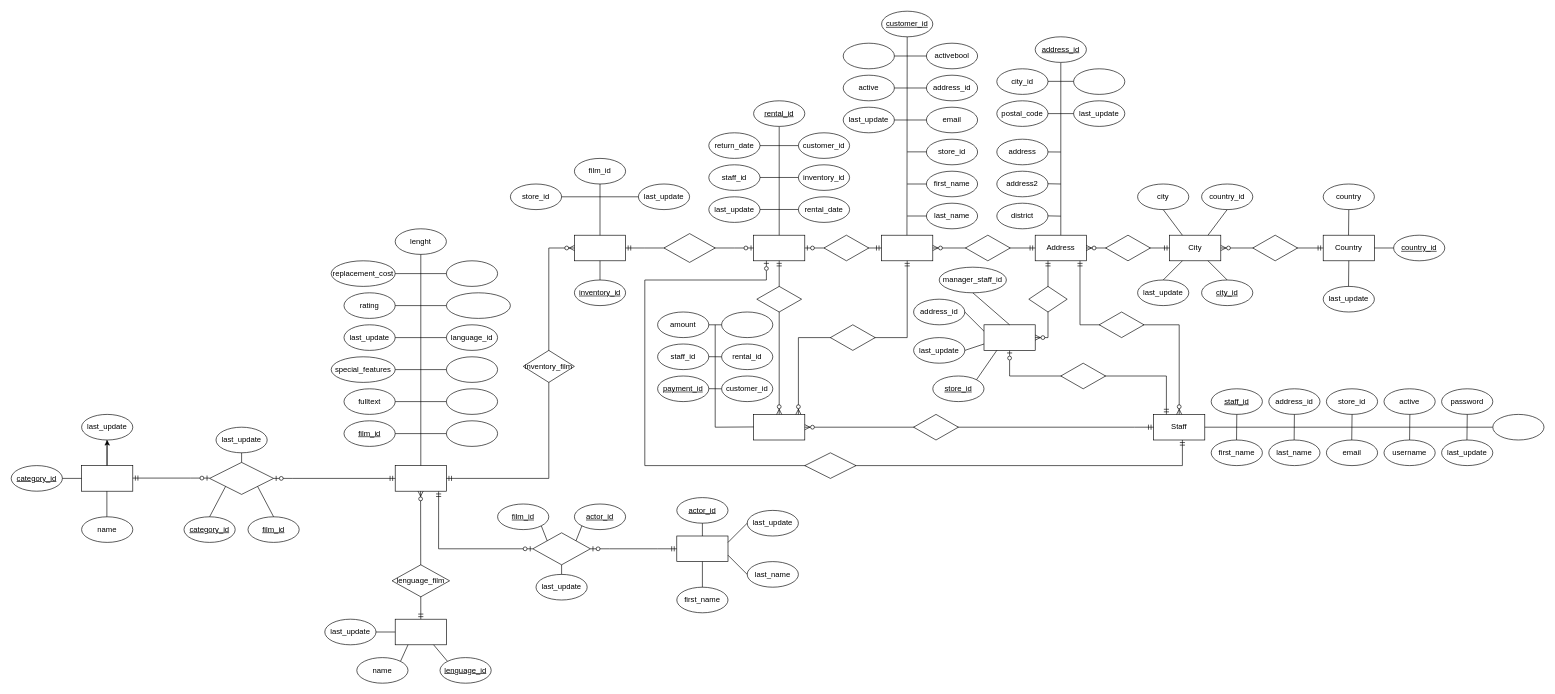
Some shapes in this 1555 by 694 pixel diagram are drawn without their labels. Each missing label, with the centre of its shape:
"Actor" goes at (702,548).
"Category" goes at (107,478).
"create_date" goes at (868,56).
"Customer" goes at (907,248).
"description" goes at (472,401).
"Film" goes at (420,478).
"Film_actor" goes at (561,548).
"Film_category" goes at (241,478).
"Inventory" goes at (600,248).
"Lenguage" goes at (420,632).
"Payment" goes at (779,427).
"payment_date" goes at (747,324).
"phone" goes at (1099,81).
"picture" goes at (1518,427).
"release_year" goes at (472,369).
"Rental" goes at (779,248).
"rental_duration" goes at (478,305).
"rental_rate" goes at (472,273).
"Store" goes at (1009,337).
"title" goes at (472,433).
